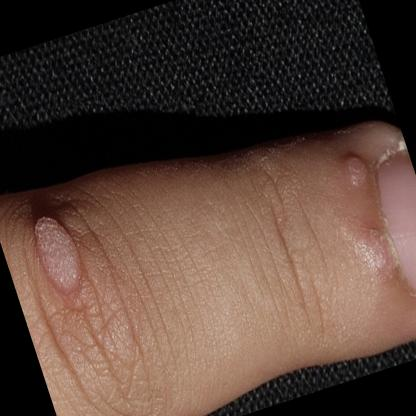Warts: (16, 192, 108, 318), (348, 209, 405, 286), (335, 139, 373, 198)
